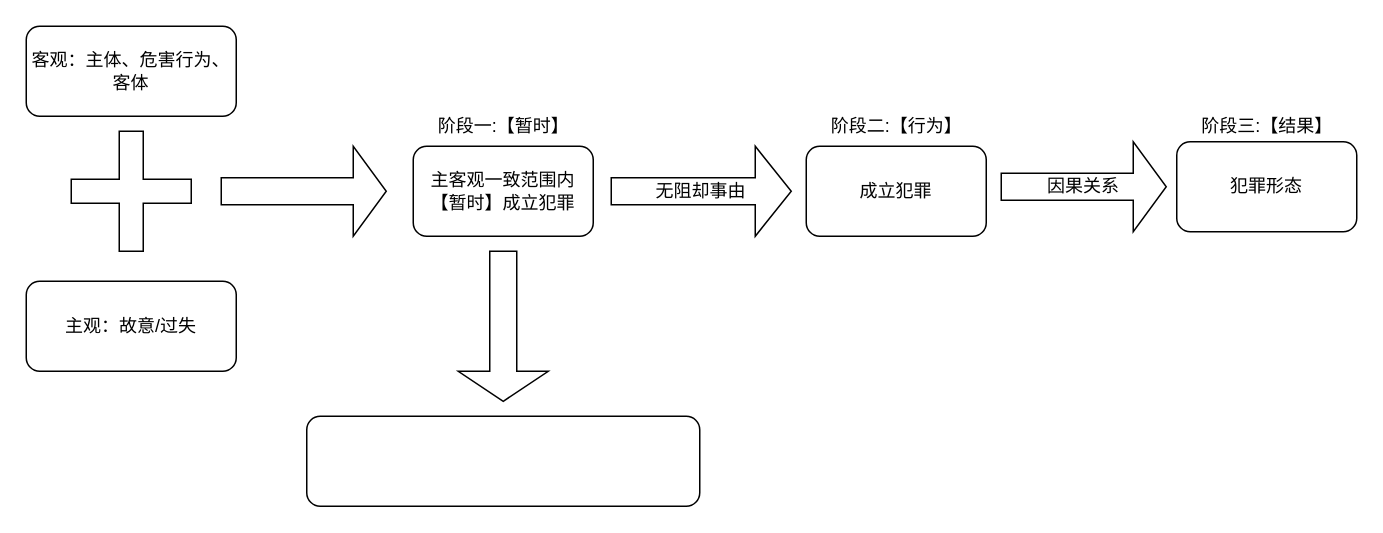
The diagram is 1383 pixels wide and 533 high, and some of its shapes have lost their labels. The centre of each missing label's shape, as x and y in pixels:
"暂时成立的犯罪被阻却，行为人又变成无罪 但阻却事由只对自己有效，其他共犯不能被阻却 二者在暂时的犯罪中成立共犯" belongs at point 502,460.
"有阻却事由" belongs at point 502,325.
